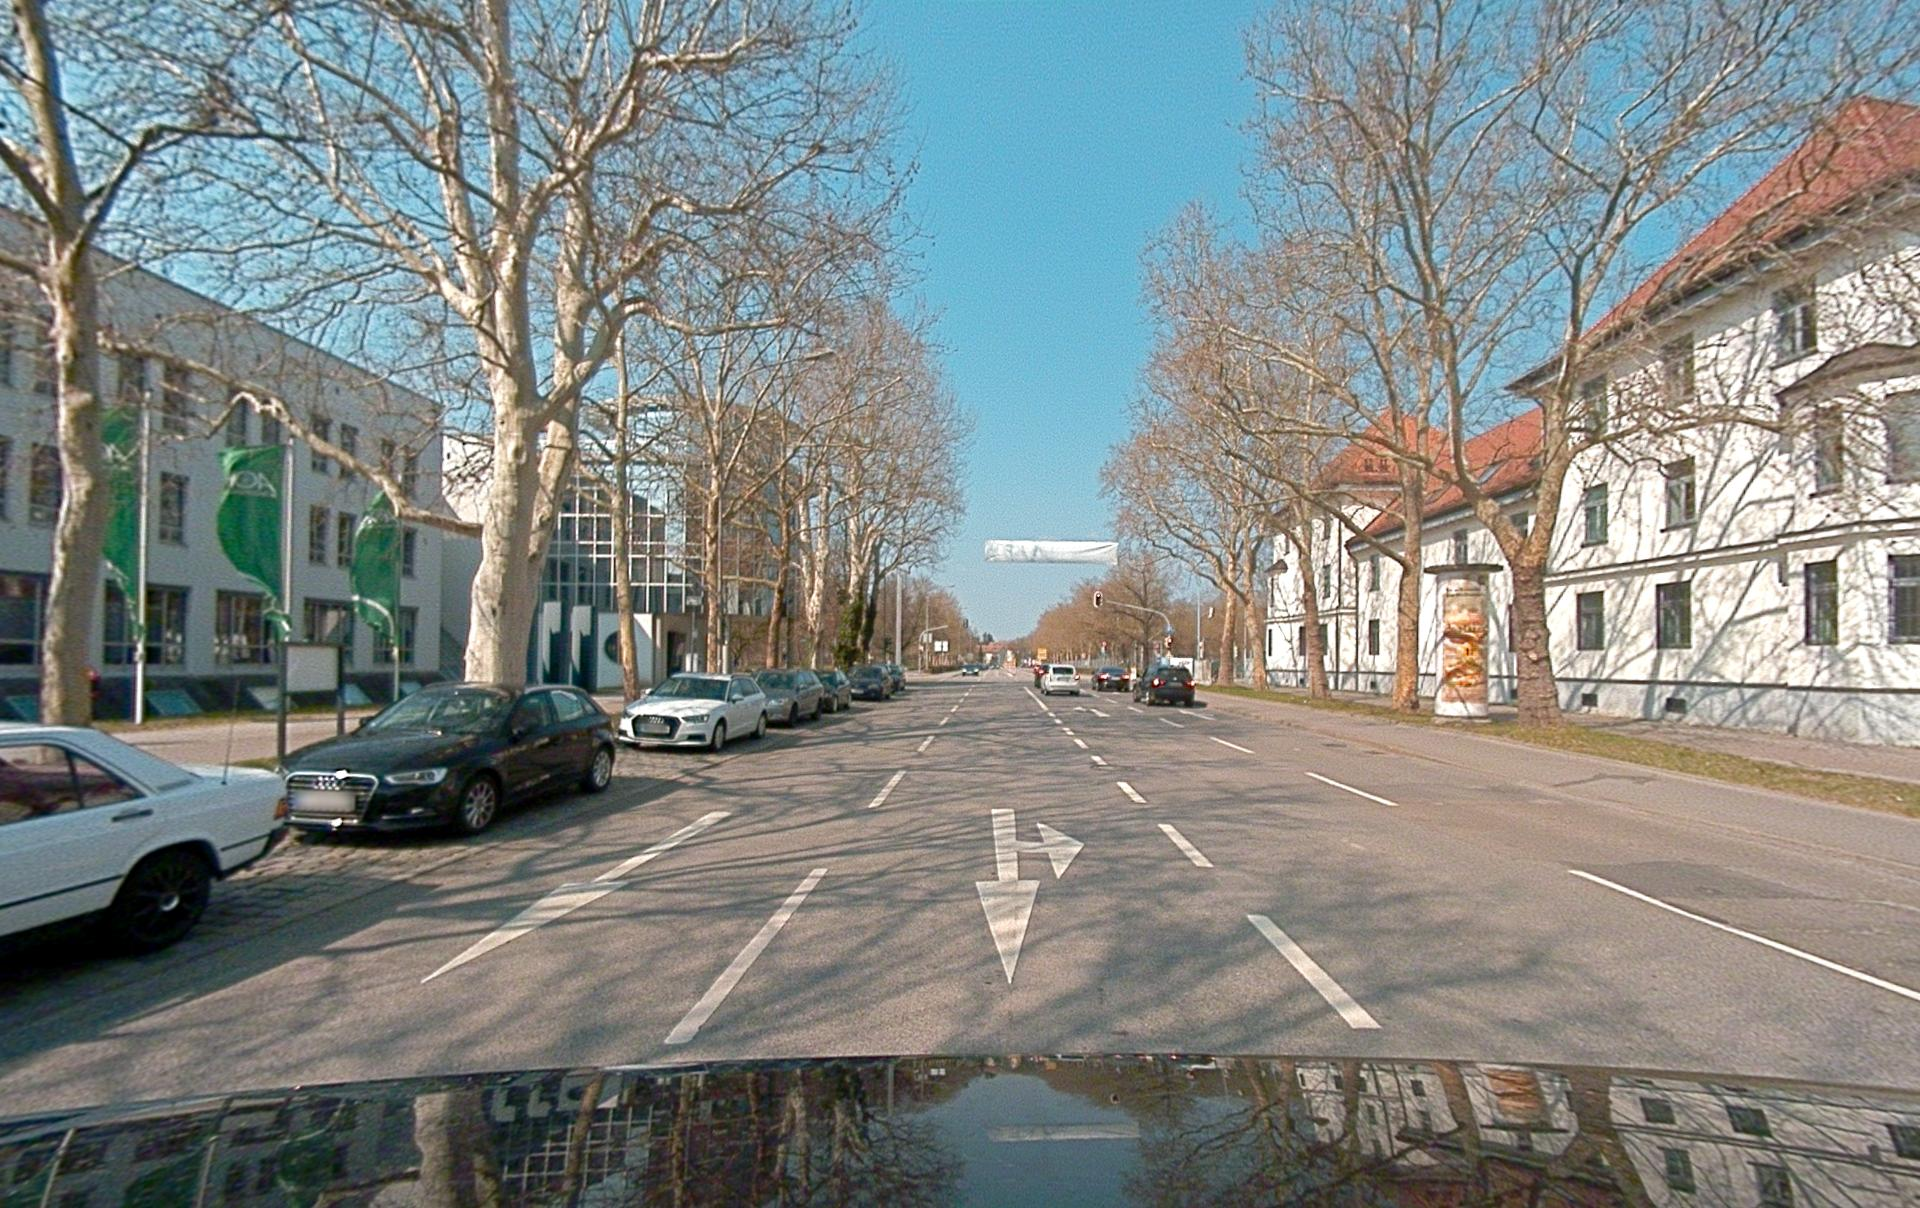car: (0, 721, 289, 955), (278, 681, 618, 839), (618, 672, 768, 752), (753, 668, 826, 726), (1139, 664, 1195, 706), (849, 664, 895, 701), (814, 668, 851, 713), (1041, 664, 1080, 696), (1094, 665, 1130, 692), (882, 664, 906, 692), (1032, 662, 1046, 688), (961, 664, 981, 676)
traffic sign: (984, 539, 1119, 565)
